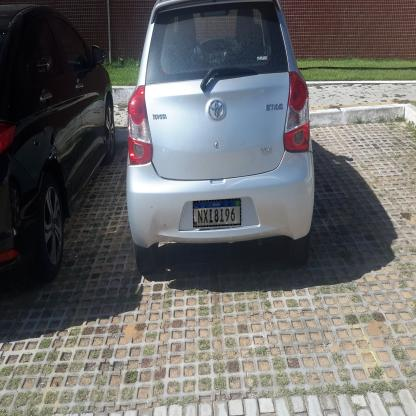PlacaM: (193, 198, 241, 228)
